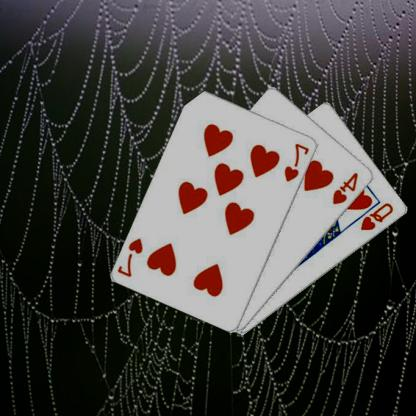4H: (332, 170, 362, 206)
7H: (116, 235, 146, 279), (284, 140, 313, 183)
QH: (360, 200, 397, 232)
